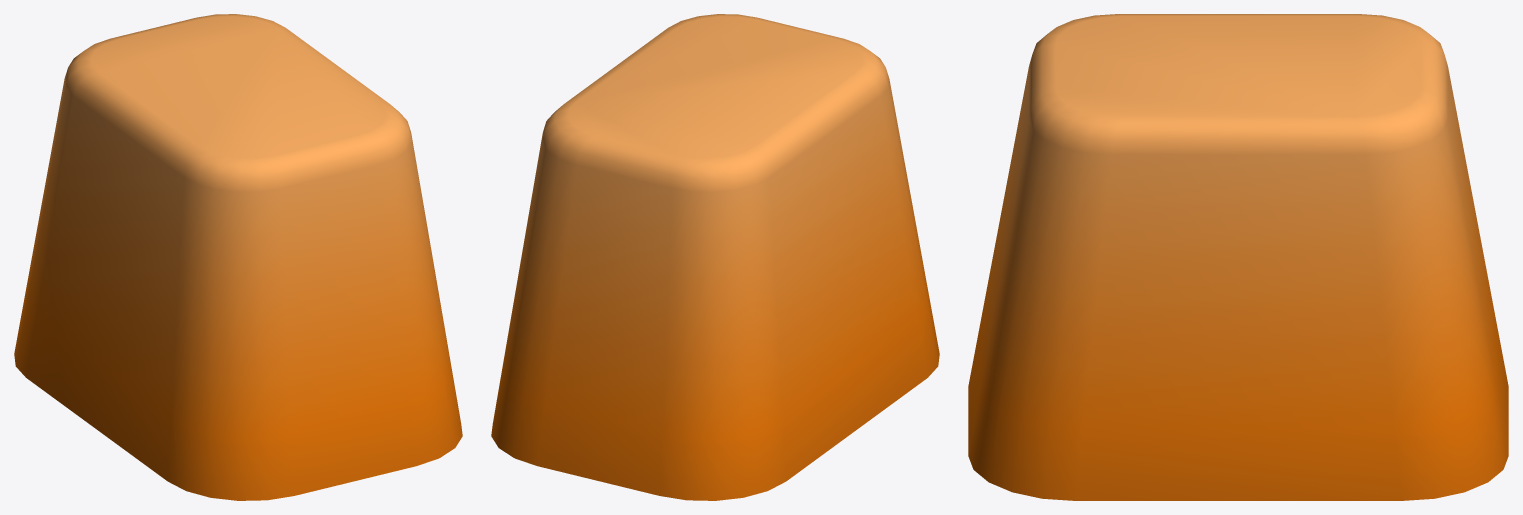
The model's file is Rock_A_02.fbx.
3 renders of one model, left to right at view 1: azimuth 30°, elevation 25°; view 2: azimuth 150°, elevation 25°; view 3: azimuth 270°, elevation 25°, orthographic. The views are drawn at different scales.
Parts seen in each view (by area): view 1: Rock_A_02; view 2: Rock_A_02; view 3: Rock_A_02.
Part boxes in pixels (x1,y1,x2,y2): Rock_A_02: [14, 14, 462, 500]; Rock_A_02: [491, 14, 939, 500]; Rock_A_02: [968, 14, 1508, 500].
Bounding box in the file's own units: 123 × 128 × 177.
